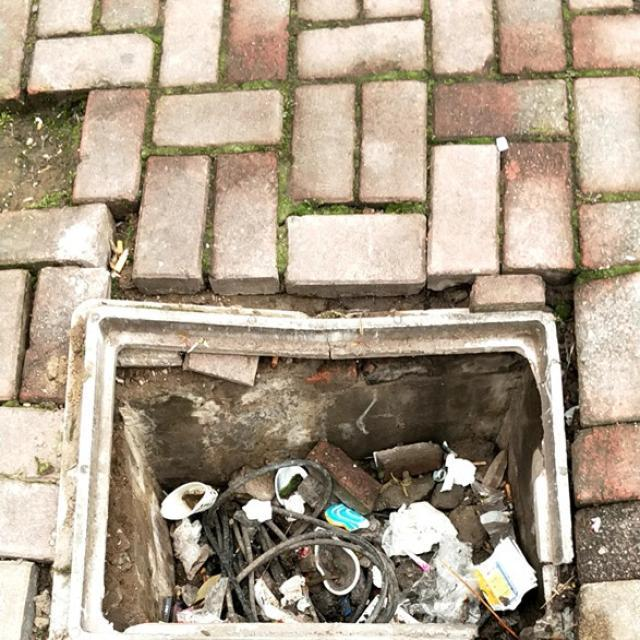Faulty: (57, 295, 574, 639)
